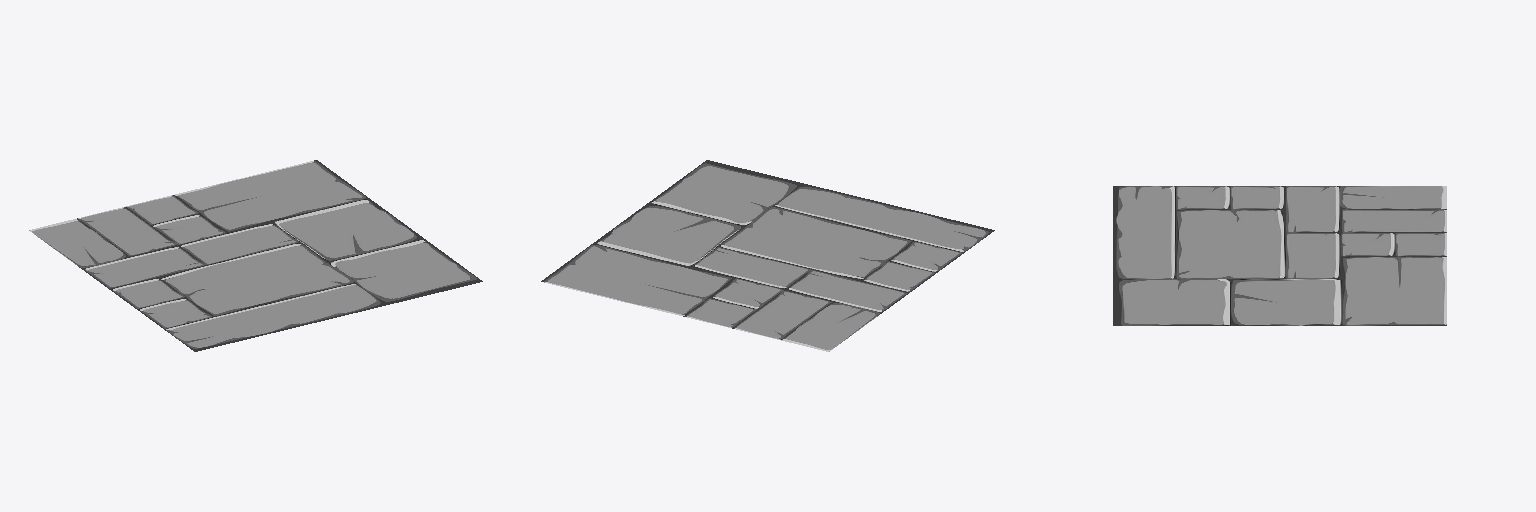
3 renders of one model, left to right at view 1: azimuth 30°, elevation 25°; view 2: azimuth 150°, elevation 25°; view 3: azimuth 270°, elevation 25°, orthographic.
Parts seen in each view (by area): view 1: Plane; view 2: Plane; view 3: Plane.
Boxes of the visible parts, x1=… form: Plane: x1=29, y1=160, x2=482, y2=351; Plane: x1=541, y1=160, x2=994, y2=351; Plane: x1=1113, y1=186, x2=1446, y2=325.
Bounding box in the file's own units: 9.71 × 0 × 9.71.
Materials: 1 (1 with a texture image).